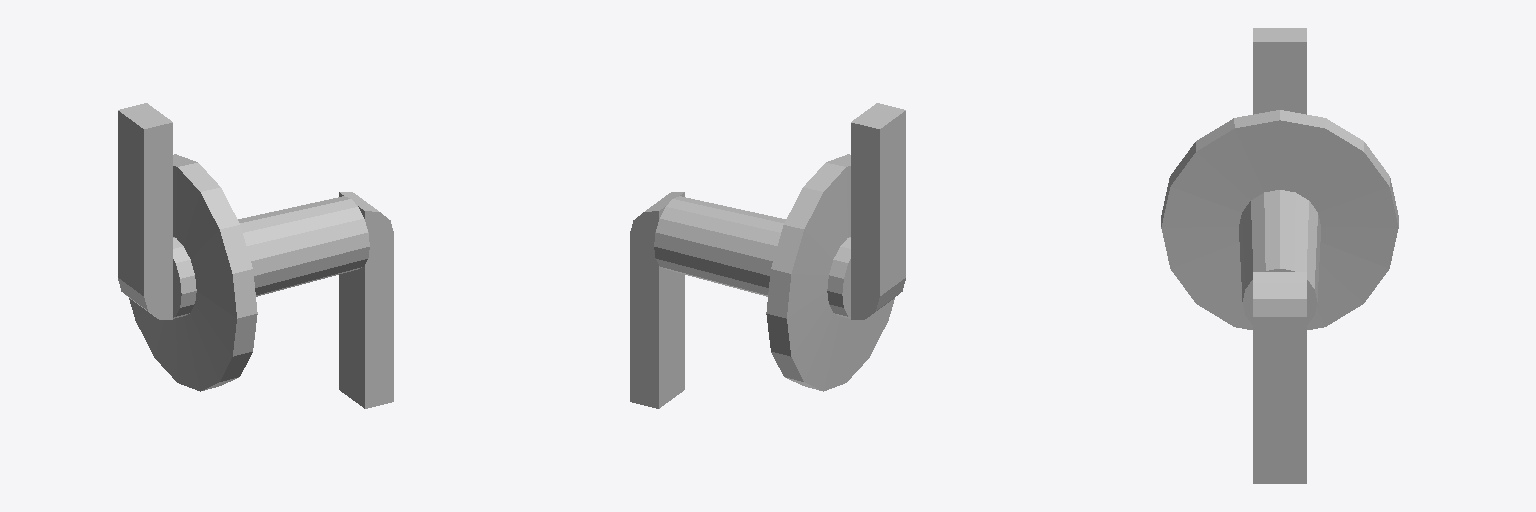
File: Pedals.obj
The picture shows the model from 3 angles: view 1: azimuth 30°, elevation 25°; view 2: azimuth 150°, elevation 25°; view 3: azimuth 270°, elevation 25°; orthographic projection.
Visible parts, largest first — view 1: BMX_Pedals; view 2: BMX_Pedals; view 3: BMX_Pedals.
Part boxes in pixels (x1,y1,x2,y2): BMX_Pedals: (118, 103, 393, 408); BMX_Pedals: (630, 103, 905, 408); BMX_Pedals: (1161, 28, 1398, 483).
Size of the model in its own units: 0.4222 by 0.5377 by 0.3482.